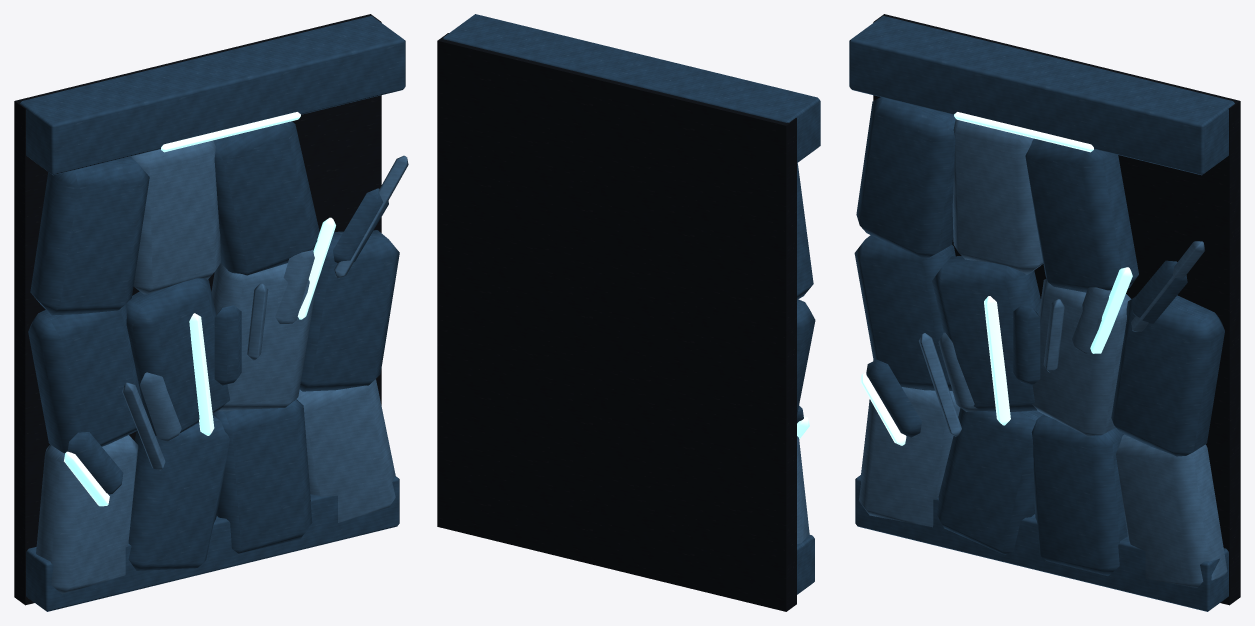
The model's file is frozen_reactor_room.glb.
The picture shows the model from 3 angles, left to right: view 1: azimuth 30°, elevation 25°; view 2: azimuth 150°, elevation 25°; view 3: azimuth 330°, elevation 25°; orthographic projection. The views are drawn at different scales.
Parts seen in each view (by area): view 1: frozen_reactor_room - frozen_reactor panels, frozen_reactor_room - frozen_reactor trim, frozen_reactor_room - Recessed iron, frozen_reactor_room - frozen_reactor accents; view 2: frozen_reactor_room - Recessed iron, frozen_reactor_room - frozen_reactor panels, frozen_reactor_room - frozen_reactor trim; view 3: frozen_reactor_room - frozen_reactor panels, frozen_reactor_room - frozen_reactor trim, frozen_reactor_room - Recessed iron, frozen_reactor_room - frozen_reactor accents.
Boxes of the visible parts, left/top/right/bottom form: frozen_reactor_room - frozen_reactor panels: left=20, top=15, right=405, bottom=611; frozen_reactor_room - frozen_reactor trim: left=36, top=140, right=408, bottom=594; frozen_reactor_room - Recessed iron: left=14, top=14, right=381, bottom=605; frozen_reactor_room - frozen_reactor accents: left=64, top=112, right=335, bottom=506; frozen_reactor_room - Recessed iron: left=437, top=33, right=796, bottom=611; frozen_reactor_room - frozen_reactor panels: left=443, top=14, right=820, bottom=594; frozen_reactor_room - frozen_reactor trim: left=797, top=436, right=809, bottom=543; frozen_reactor_room - frozen_reactor panels: left=849, top=15, right=1234, bottom=611; frozen_reactor_room - frozen_reactor trim: left=858, top=119, right=1227, bottom=587; frozen_reactor_room - Recessed iron: left=873, top=14, right=1240, bottom=605; frozen_reactor_room - frozen_reactor accents: left=860, top=112, right=1132, bottom=445.
Bounding box in the file's own units: 6.1 × 8.03 × 1.21.
Materials: 4 (3 with a texture image).
